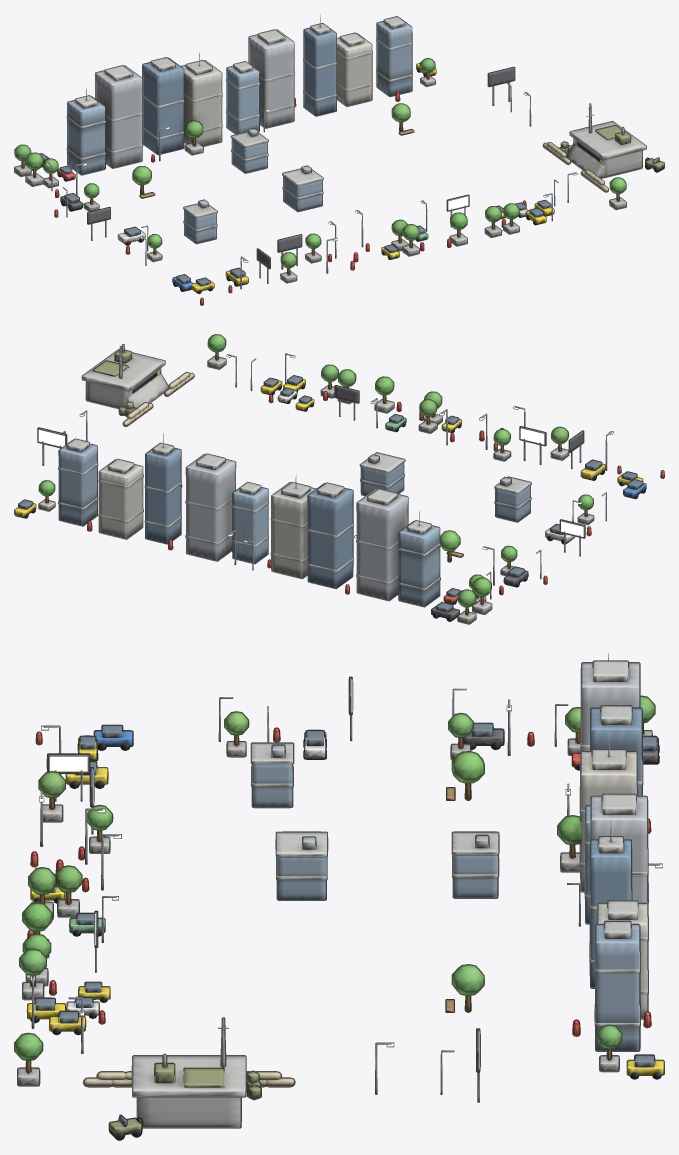
The model's file is downtown.glb.
3 views of the same model, one above another, from view 1: azimuth 30°, elevation 25°; view 2: azimuth 150°, elevation 25°; view 3: azimuth 270°, elevation 25° (orthographic). The views are drawn at different scales.
Parts seen in each view (by area): view 1: Baked_gloss, Baked_matte, Baked_matte_Outline, Baked_gloss_Outline, Baked_metal, Baked_satin; view 2: Baked_gloss, Baked_matte, Baked_matte_Outline, Baked_gloss_Outline, Baked_metal, Baked_satin, Baked_glow_7bcbff, Baked_satin_Outline; view 3: Baked_matte, Baked_gloss, Baked_matte_Outline, Baked_satin, Baked_gloss_Outline, Baked_metal, Baked_satin_Outline.
Boxes of the visible parts, <box> form: Baked_gloss: <box>40,21,659,286</box>; Baked_matte: <box>14,17,664,304</box>; Baked_matte_Outline: <box>14,16,664,305</box>; Baked_gloss_Outline: <box>40,18,660,283</box>; Baked_metal: <box>47,14,623,289</box>; Baked_satin: <box>42,64,553,291</box>; Baked_gloss: <box>18,376,642,612</box>; Baked_matte: <box>25,335,664,623</box>; Baked_matte_Outline: <box>15,334,664,624</box>; Baked_gloss_Outline: <box>18,375,643,609</box>; Baked_metal: <box>42,344,612,599</box>; Baked_satin: <box>14,379,645,619</box>; Baked_glow_7bcbff: <box>38,428,583,536</box>; Baked_satin_Outline: <box>14,379,646,619</box>; Baked_matte: <box>15,661,660,1139</box>; Baked_gloss: <box>35,663,656,1126</box>; Baked_matte_Outline: <box>14,660,661,1140</box>; Baked_satin: <box>28,729,663,1074</box>; Baked_gloss_Outline: <box>34,662,657,1126</box>; Baked_metal: <box>31,653,660,1102</box>; Baked_satin_Outline: <box>26,728,664,1075</box>.
Size of the model in its own units: 40.21 by 7.26 by 26.6.
